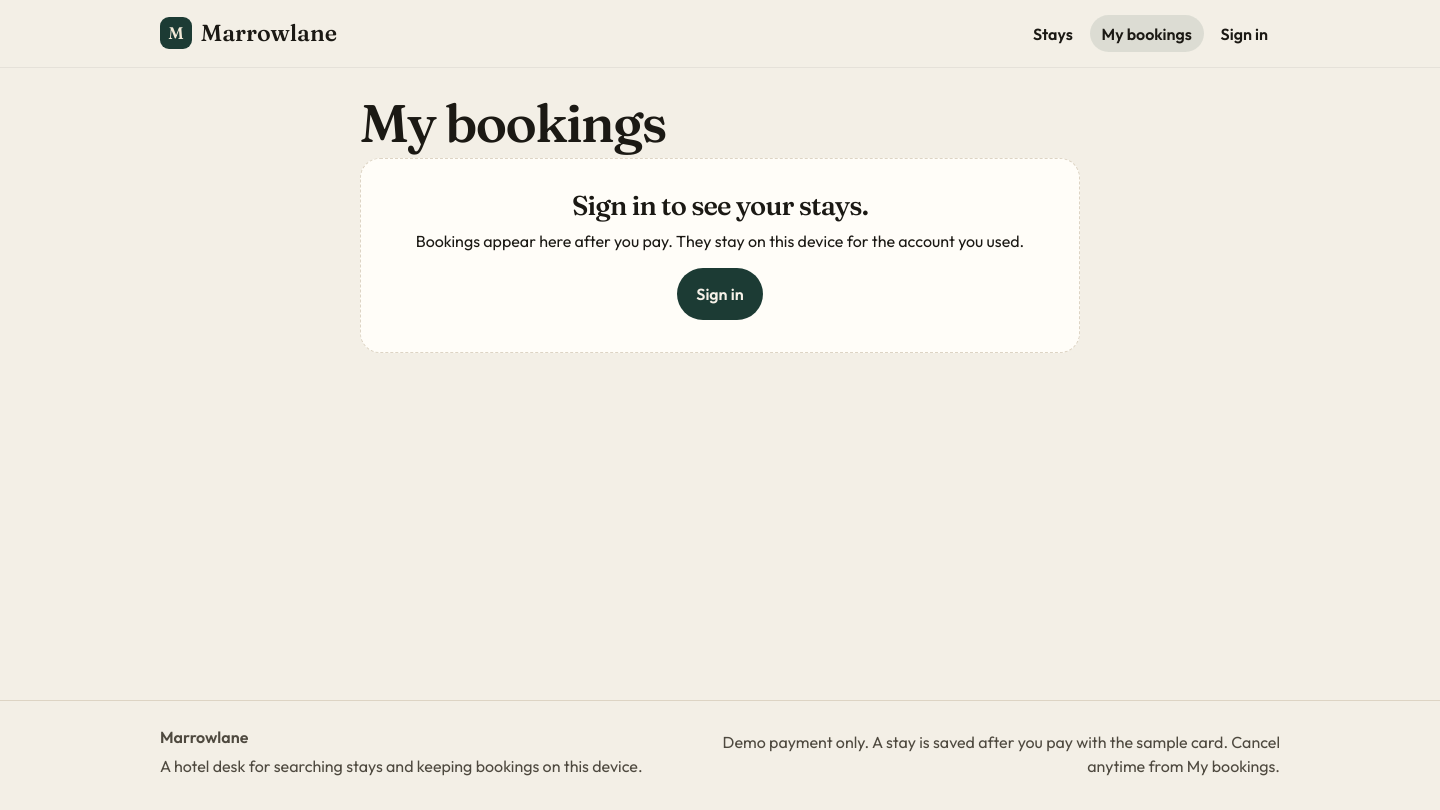
starts with an empty bookings list
Expected: the heading "Sign in to see your stays." is shown, [572,188,868,222]
Click the 1st link "Sign in". click: (1244, 34)
box: [1221,24,1268,44]
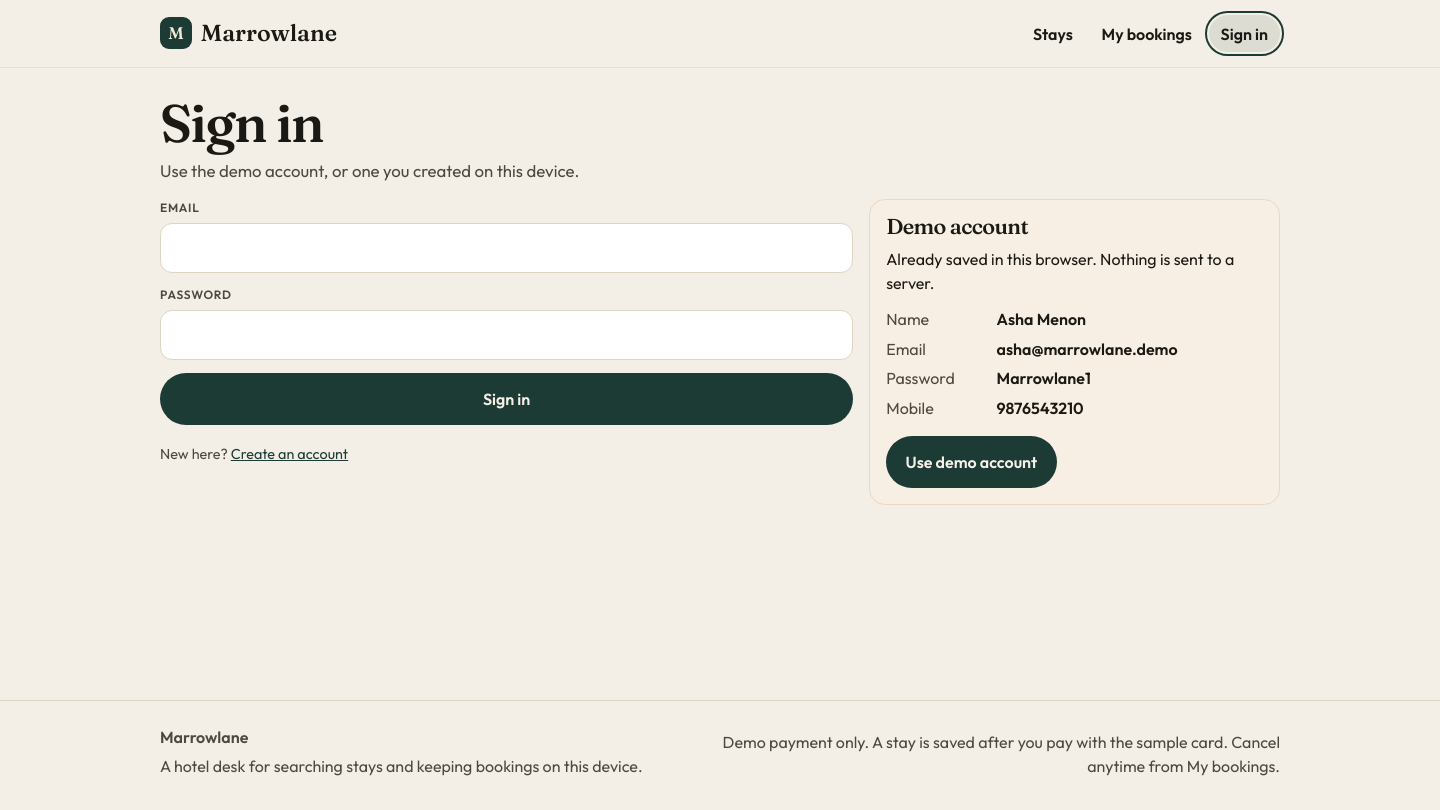
Click the button "Use demo account". click: (971, 462)
box: [886,436,1057,488]
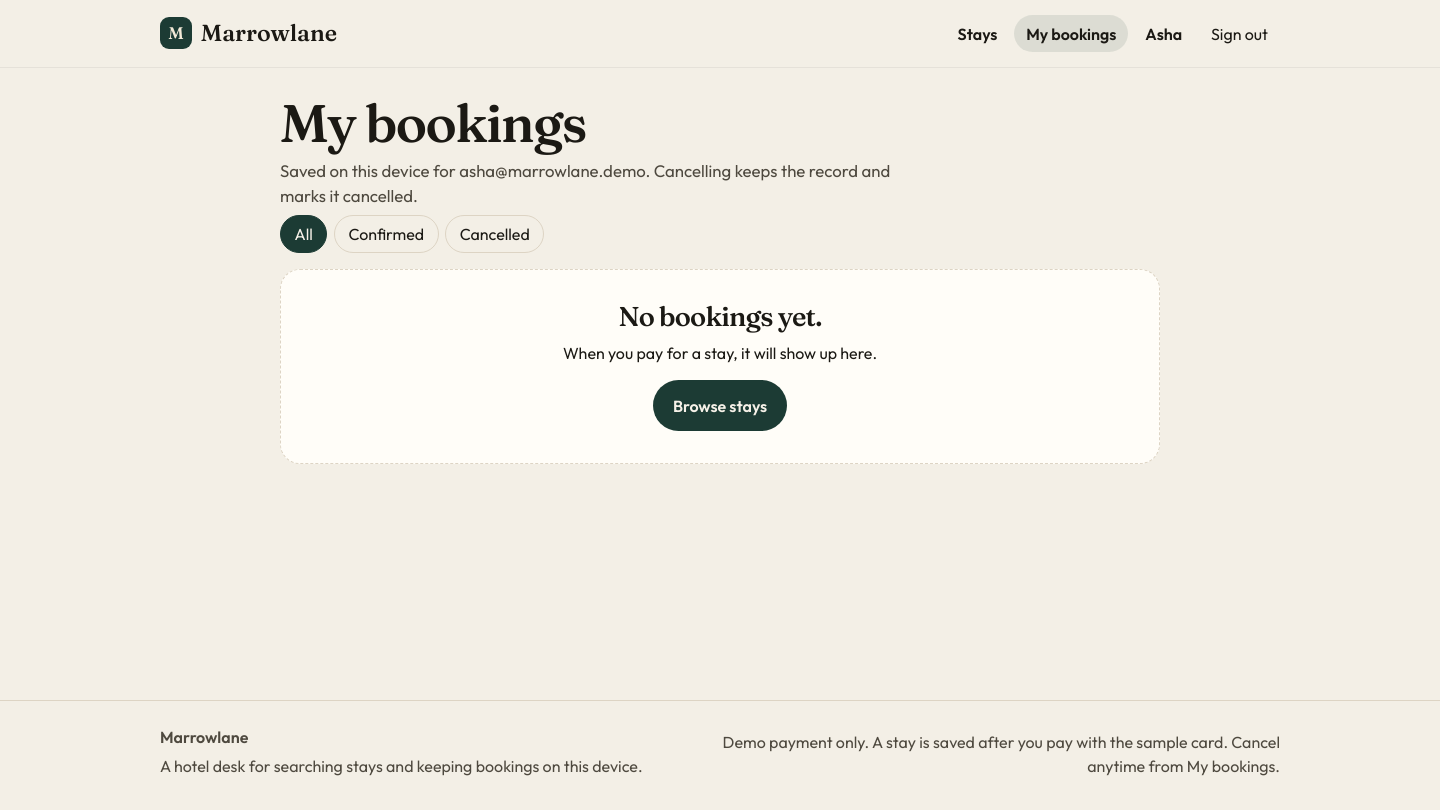
Expected: the heading "No bookings yet." is shown, [618,299,822,333]
